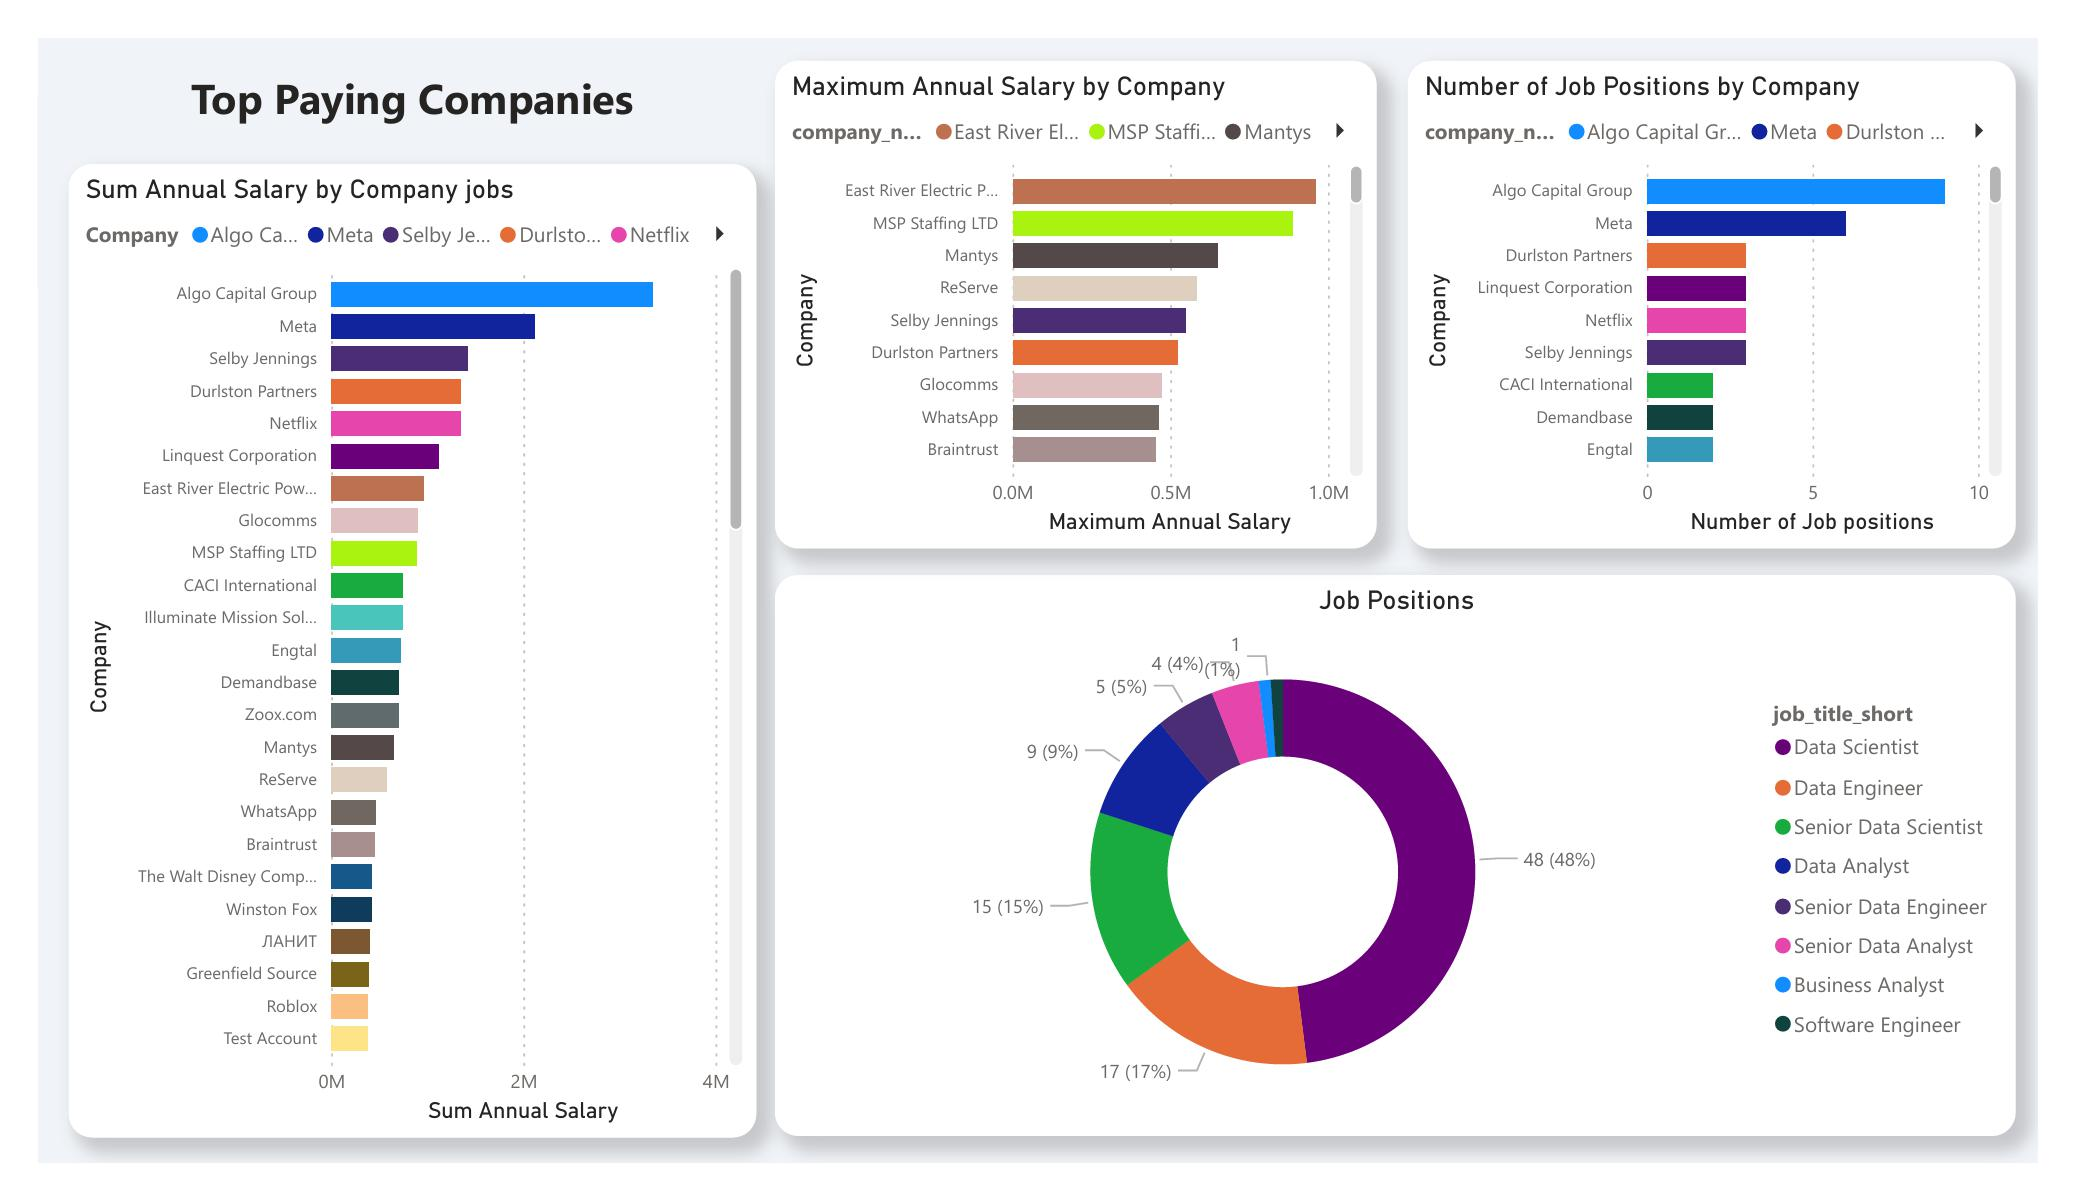

This screenshot's page, from the dashboard's own definition file:
{"tool":"powerbi","page":{"name":"Page 5","canvas":[1280,720],"ordinal":4},"visuals":[{"type":"textbox","box":[20.4,14.6,440,58.4],"z":0},{"type":"barChart","title":"Sum Annual Salary by Company jobs","fields":{"Category":["Top Paying Jobs by Company.company_name"],"Y":["Sum(Top Paying Jobs by Company.yearly_salary)"],"Series":["Top Paying Jobs by Company.company_name"]},"box":[20.4,80.8,440,623],"z":1000},{"type":"barChart","title":"Number of Job Positions by Company","fields":{"Category":["Top Paying Jobs by Company.company_name"],"Y":["CountNonNull(Top Paying Jobs by Company.job_id)"],"Series":["Top Paying Jobs by Company.company_name"]},"box":[877.2,14.9,389,311.7],"z":2000},{"type":"donutChart","title":"Job Positions","fields":{"Category":["Top Paying Jobs by Company.job_title_short"],"Y":["CountNonNull(Top Paying Jobs by Company.company_name)"]},"box":[471.5,344.2,794.6,359.1],"z":3000},{"type":"barChart","title":"Maximum Annual Salary by Company","fields":{"Category":["Top Paying Jobs by Company.company_name"],"Y":["Max(Top Paying Jobs by Company.yearly_salary)"],"Series":["Top Paying Jobs by Company.company_name"]},"box":[471.5,14.9,385.5,311.7],"z":4000}]}

Visuals, with their boxes on the page's 1280x720 design canvas (x1, y1, x2, y2). These are canvas units, not pixel positions in the 2075x1200 screenshot, which may show the page scaled, cropped or inside an application window:
textbox: 20, 15, 460, 73
"Sum Annual Salary by Company jobs" barChart: 20, 81, 460, 704
"Number of Job Positions by Company" barChart: 877, 15, 1266, 327
"Job Positions" donutChart: 472, 344, 1266, 703
"Maximum Annual Salary by Company" barChart: 472, 15, 857, 327
